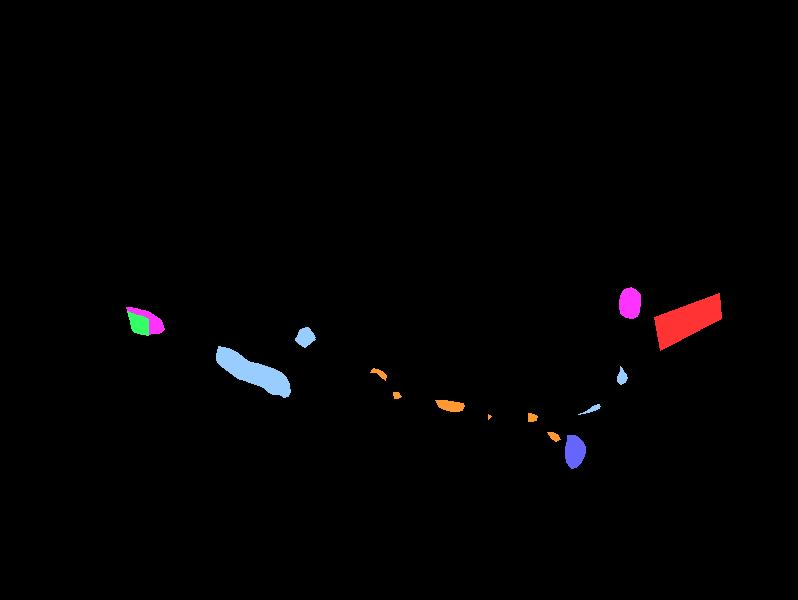Broken part: (127, 311, 148, 335)
Corrosion: (216, 346, 290, 397), (295, 327, 315, 347), (578, 404, 600, 414), (617, 366, 627, 384), (299, 333, 315, 344)
Dent: (126, 307, 164, 334), (619, 287, 640, 318)
Missing part: (654, 293, 721, 350)
Paint chip: (435, 400, 464, 411), (370, 368, 386, 380), (547, 432, 560, 441), (528, 413, 537, 421), (393, 392, 401, 398), (488, 414, 491, 419)
Scratch: (565, 435, 585, 468)
